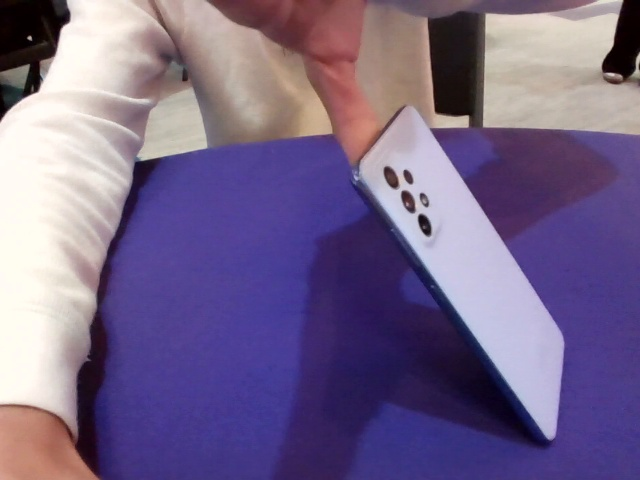celular: (353, 104, 566, 444)
